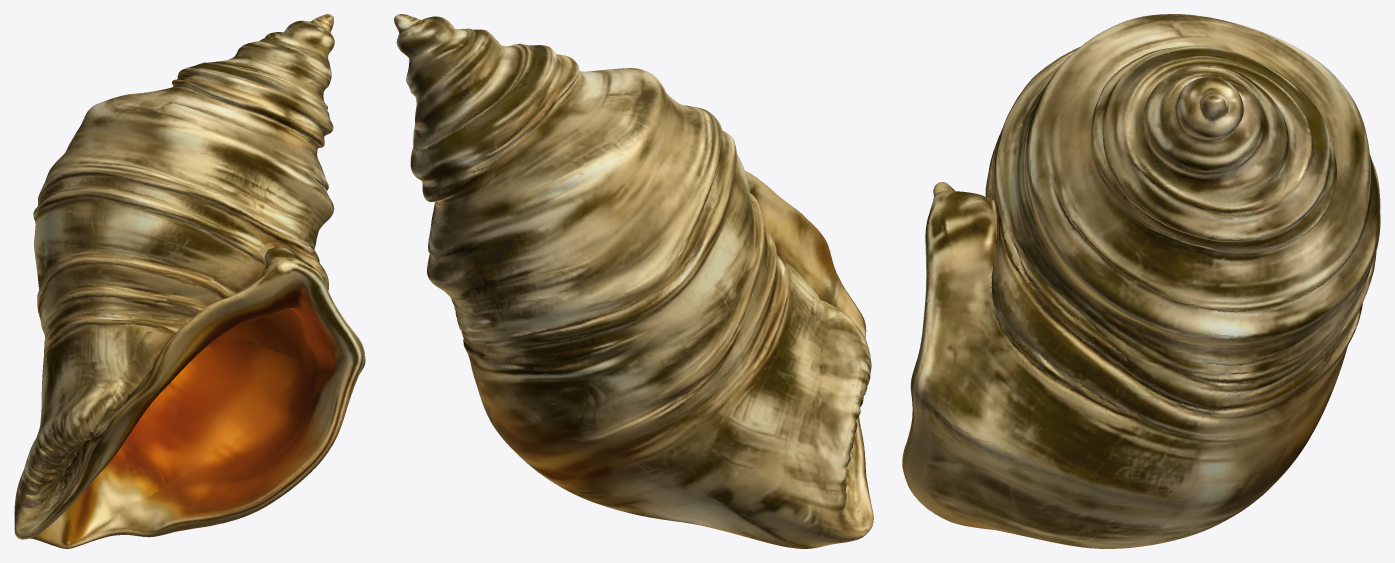
File: item_conch.glb
The picture shows the model from 3 angles, left to right: view 1: azimuth 30°, elevation 25°; view 2: azimuth 150°, elevation 25°; view 3: azimuth 270°, elevation 25°; orthographic projection. The views are drawn at different scales.
Visible parts, largest first — view 1: geometry_0; view 2: geometry_0; view 3: geometry_0.
Boxes of the visible parts, box(x1,y1,x2,y2) form: geometry_0: box(14, 14, 365, 548); geometry_0: box(394, 14, 873, 548); geometry_0: box(902, 14, 1380, 548).
Bounding box in the file's own units: 0.198 × 0.22 × 0.1622.
Materials: 1 (1 with a texture image).
